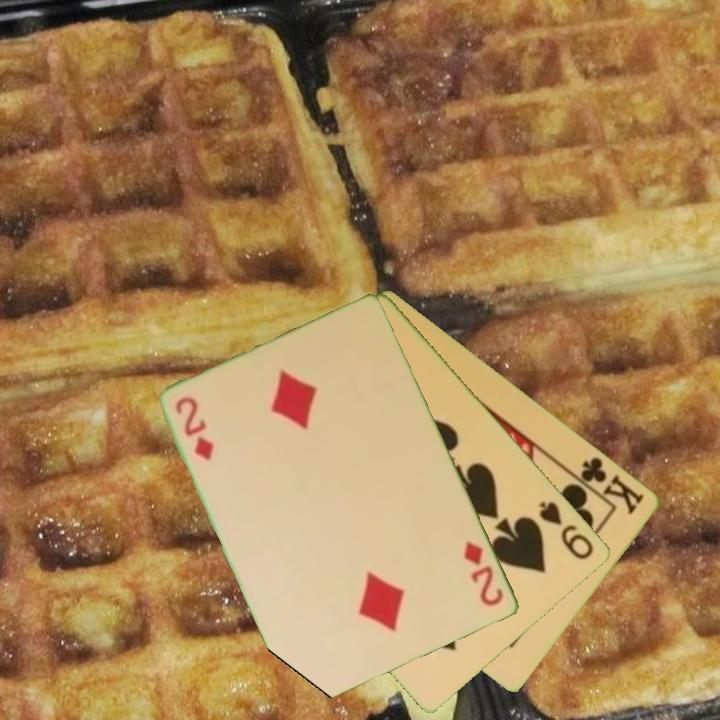2d: (461, 538, 507, 610), (172, 393, 217, 464)
9s: (536, 497, 597, 563)
Kc: (569, 453, 648, 518)
